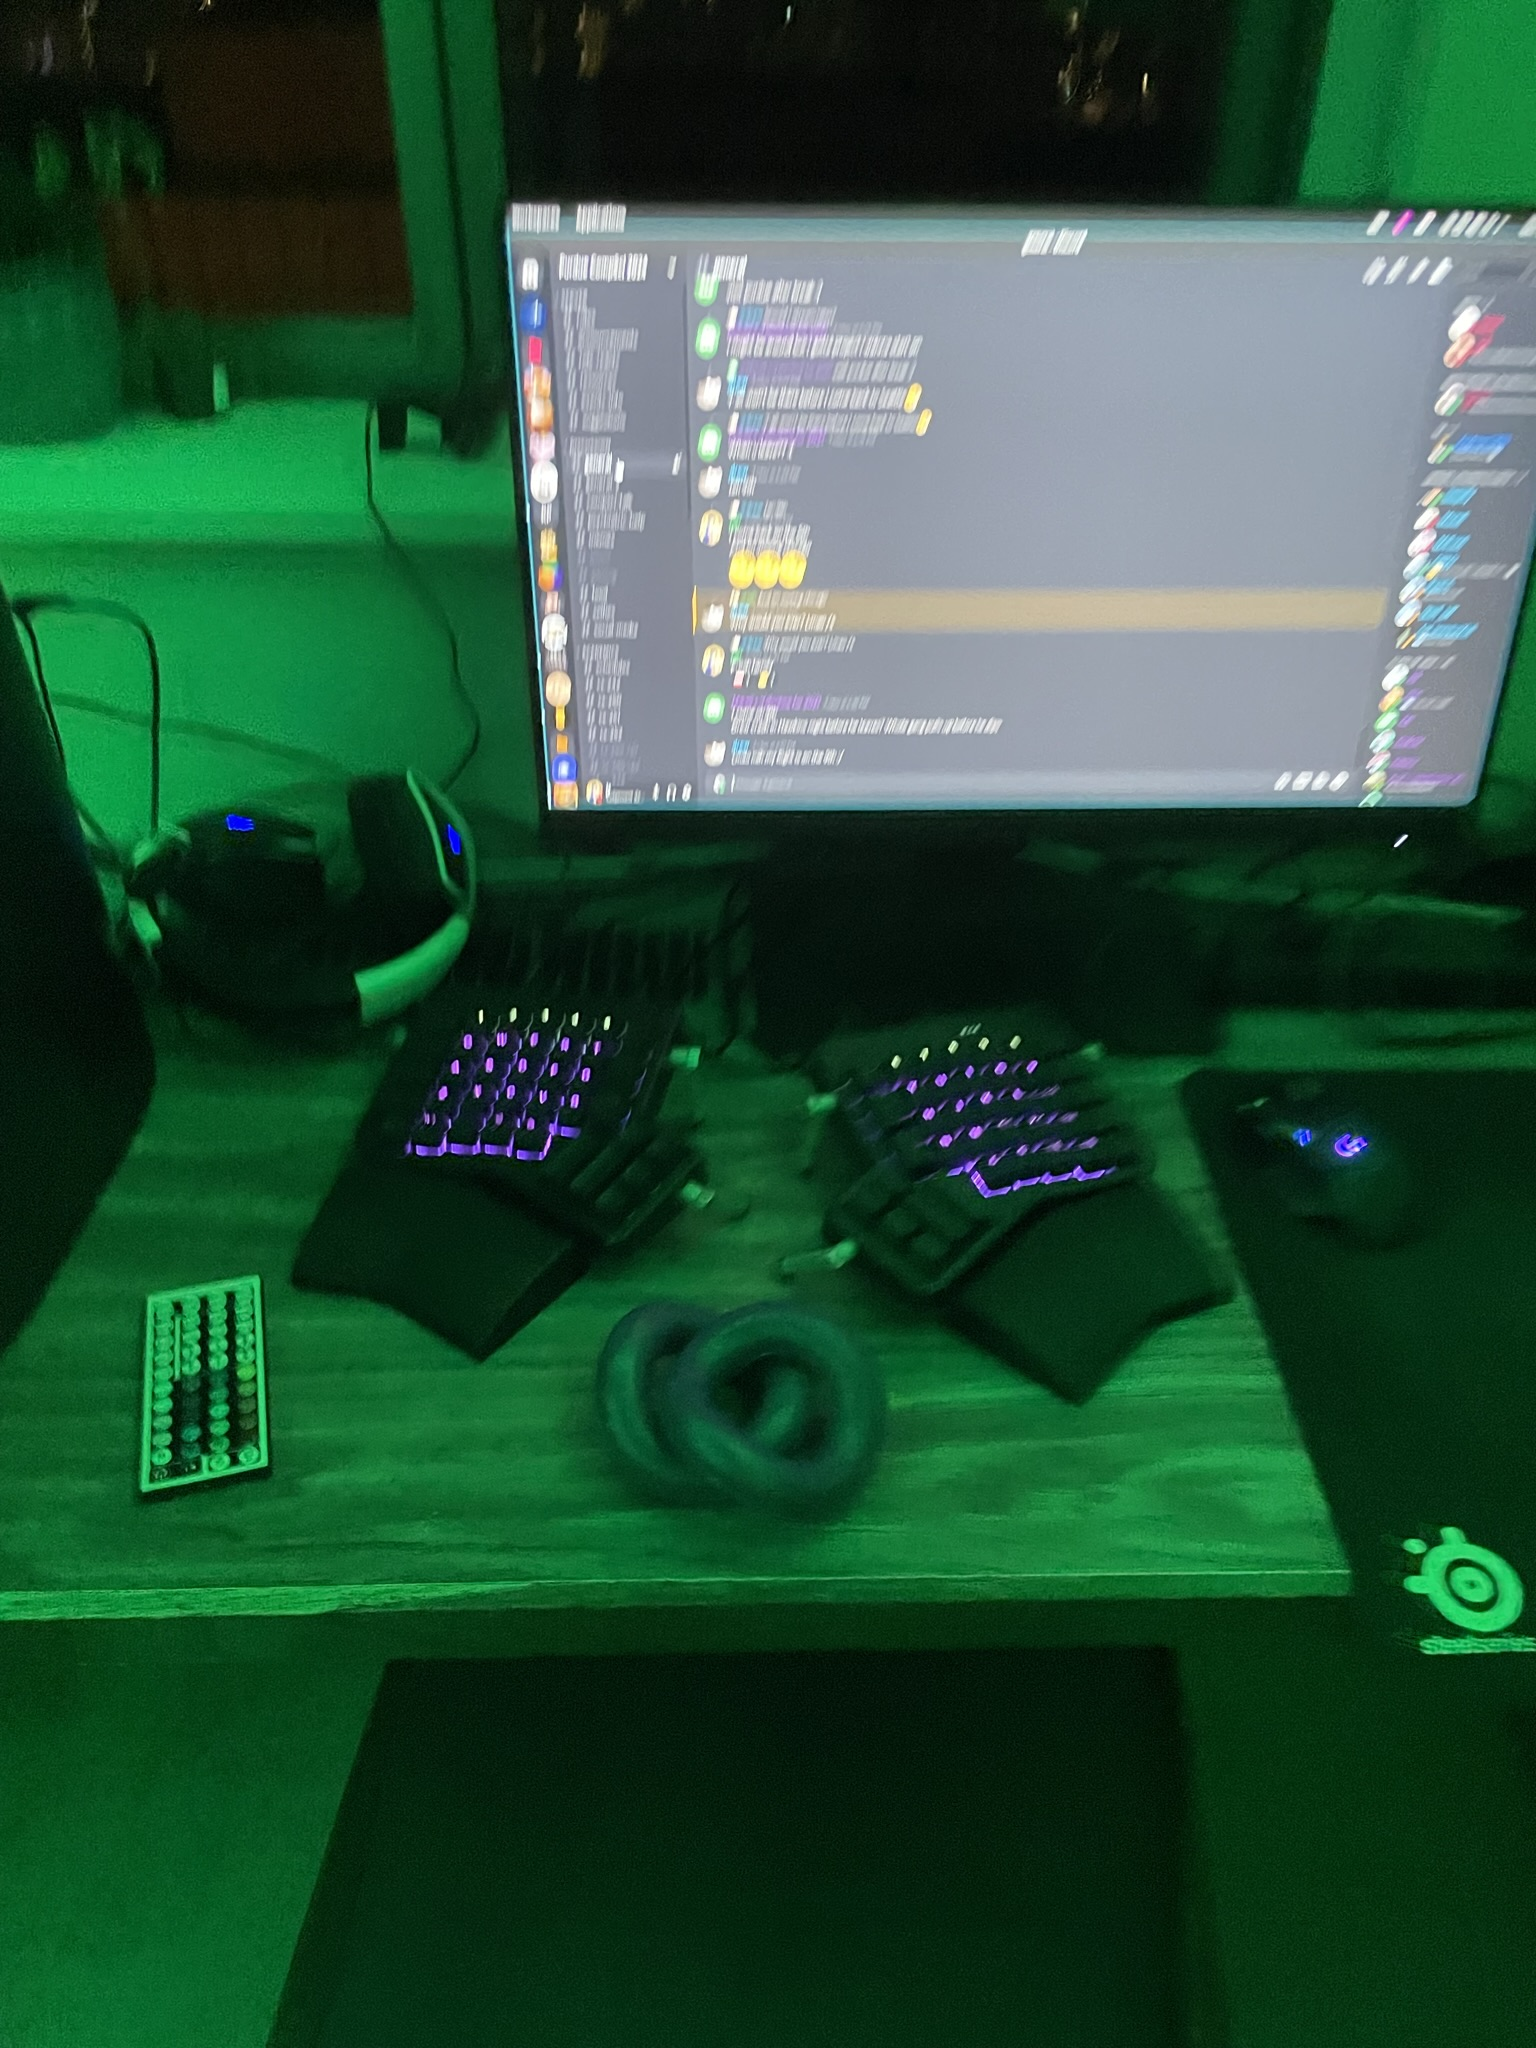ring: (592, 1293, 818, 1500), (673, 1306, 884, 1516)
